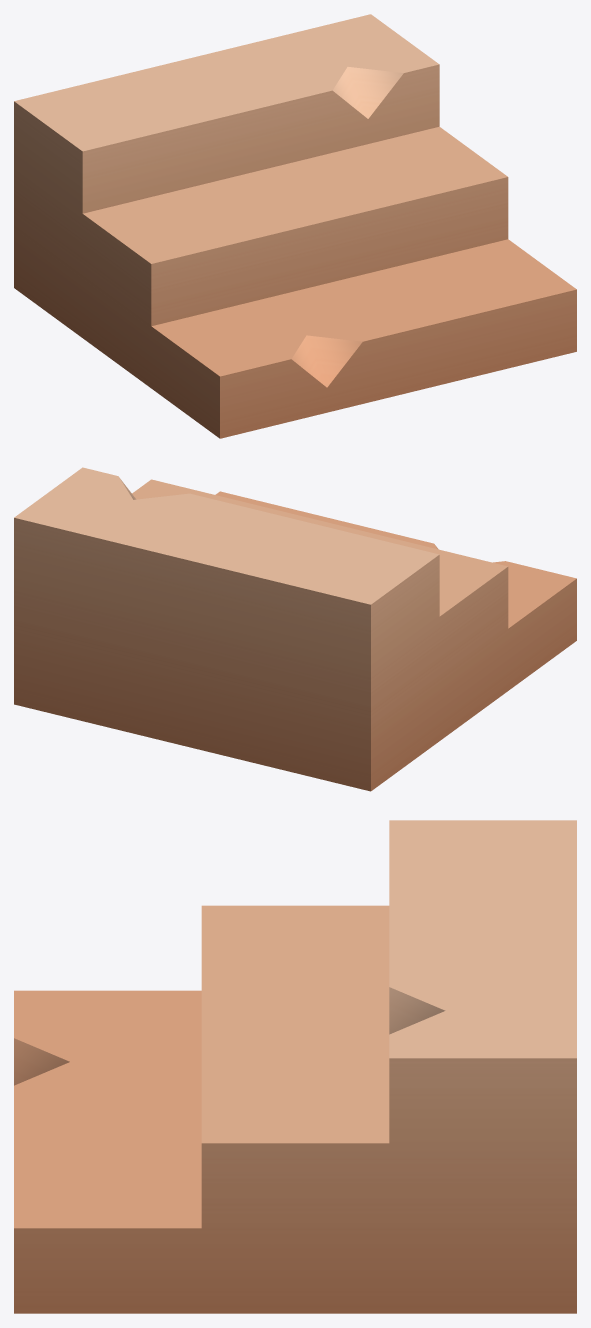
The model's file is stairs.obj.
The picture shows the model from 3 angles, top to bottom: view 1: azimuth 30°, elevation 25°; view 2: azimuth 150°, elevation 25°; view 3: azimuth 270°, elevation 25°; orthographic projection. The views are drawn at different scales.
Parts seen in each view (by area): view 1: stairs; view 2: stairs; view 3: stairs.
Part boxes in pixels (x1,y1,x2,y2): stairs: [14, 14, 576, 438]; stairs: [14, 467, 576, 791]; stairs: [14, 820, 576, 1313].
Bounding box in the file's own units: 1 × 0.5 × 1.
Materials: 1 (1 with a texture image).
